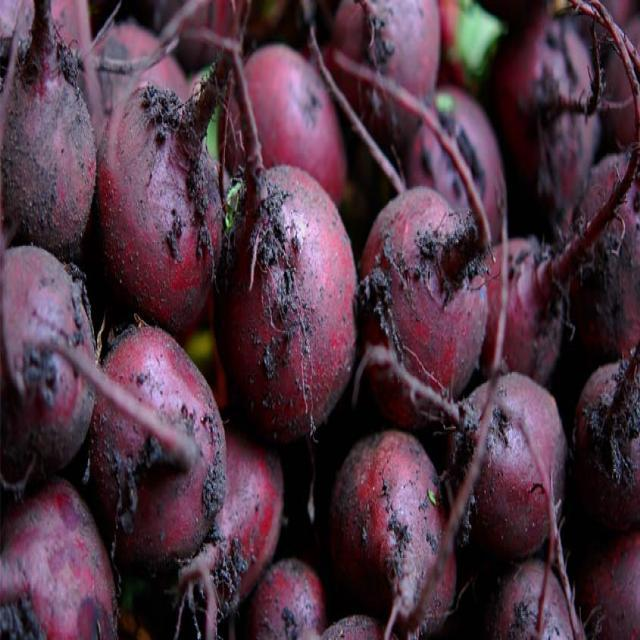beet: (227, 160, 355, 432), (103, 331, 235, 560), (102, 88, 222, 322), (372, 184, 490, 414), (339, 432, 463, 633), (1, 245, 99, 496), (1, 42, 95, 254), (229, 52, 353, 200), (465, 385, 569, 531), (339, 1, 442, 131), (254, 565, 327, 640)
